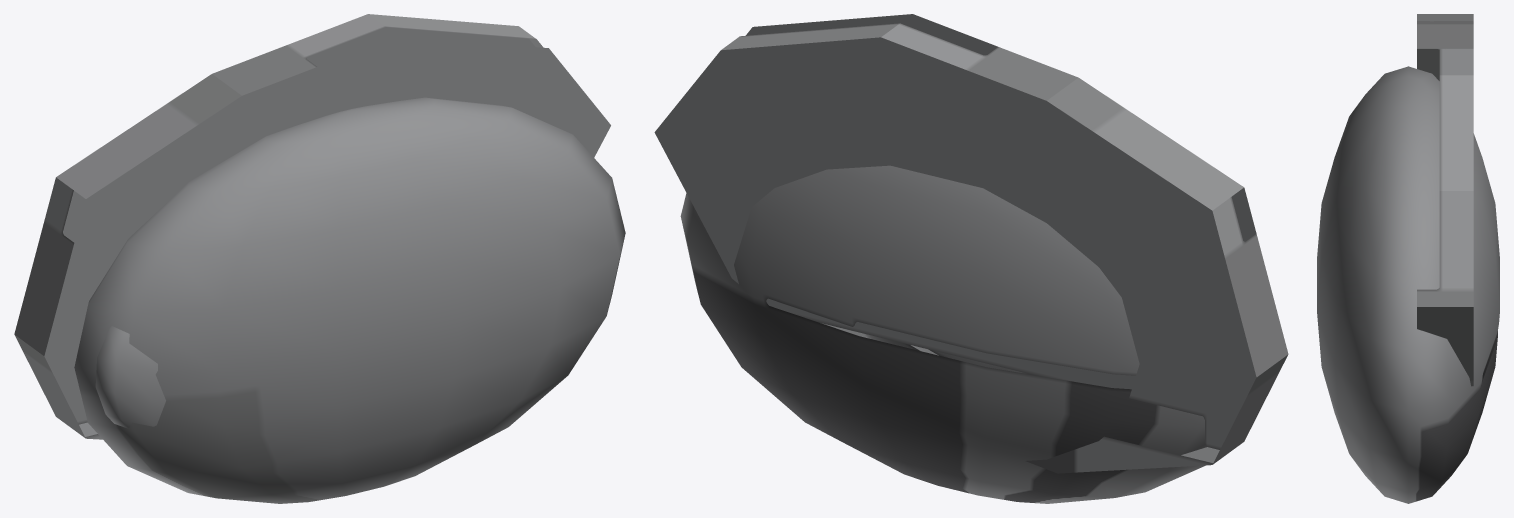
3 views of the same model, side by side, from view 1: azimuth 30°, elevation 25°; view 2: azimuth 150°, elevation 25°; view 3: azimuth 270°, elevation 25° (orthographic). The views are drawn at different scales.
Size of the model in its own units: 1.11 by 0.8038 by 0.3229.
